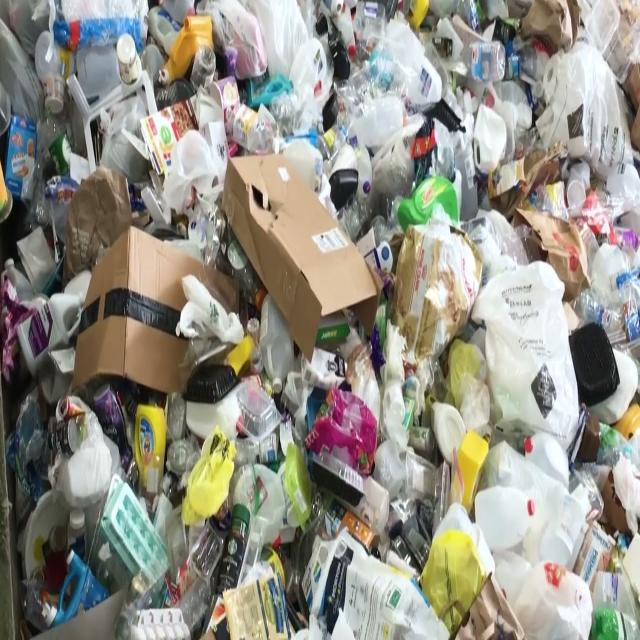cardboard: (260, 193, 366, 341), (97, 257, 177, 369)
plastic: (203, 414, 389, 604), (42, 46, 196, 158), (500, 63, 606, 202), (478, 478, 580, 622), (366, 44, 472, 178)
